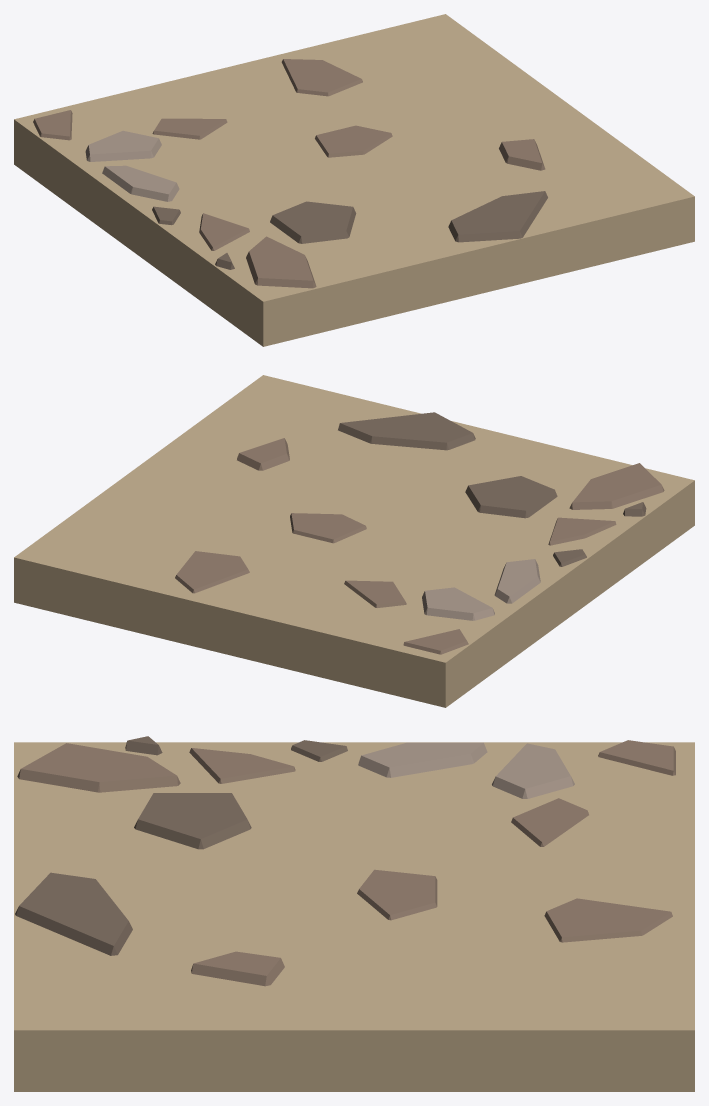
The model's file is Cobblestone_Dirt_Transition_3.obj.
The picture shows the model from 3 angles, top to bottom: view 1: azimuth 30°, elevation 25°; view 2: azimuth 150°, elevation 25°; view 3: azimuth 270°, elevation 25°; orthographic projection. The views are drawn at different scales.
Visible parts, largest first — view 1: object1; view 2: object1; view 3: object1.
Part boxes in pixels (x1,y1,x2,y2): object1: (14, 14, 694, 346); object1: (14, 375, 694, 707); object1: (14, 736, 694, 1091).
Size of the model in its own units: 2 by 0.2281 by 2.
